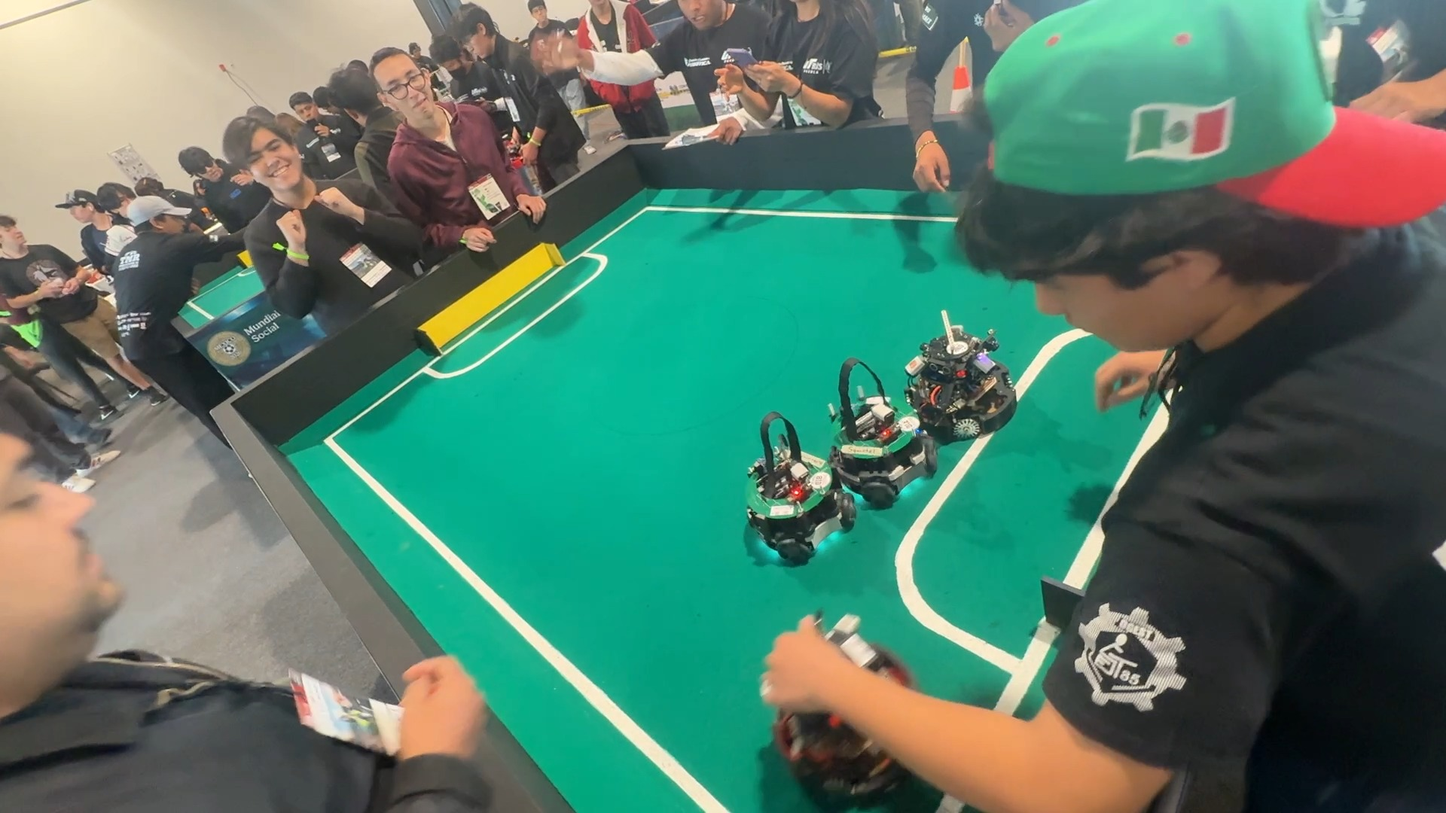Robot: (721, 409, 865, 570), (797, 361, 936, 516), (901, 307, 1028, 456)
